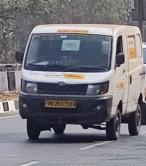Auto: (18, 23, 142, 142)
